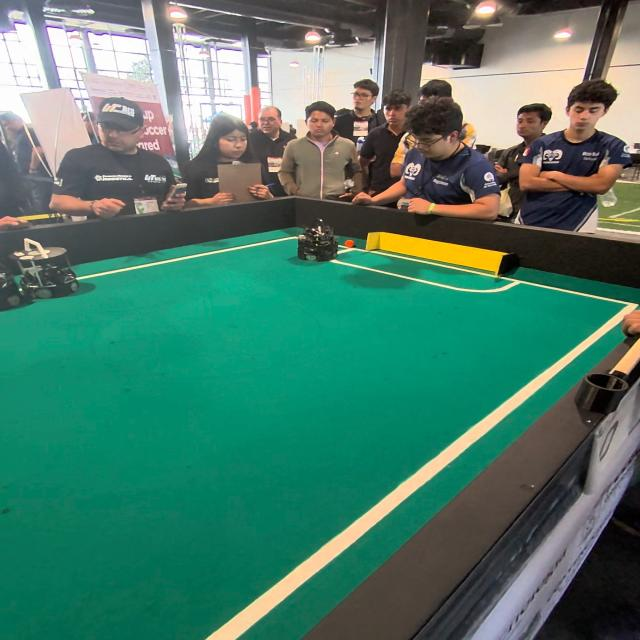Robot: (11, 237, 80, 305), (296, 218, 341, 265)
pelota: (342, 236, 362, 249)
